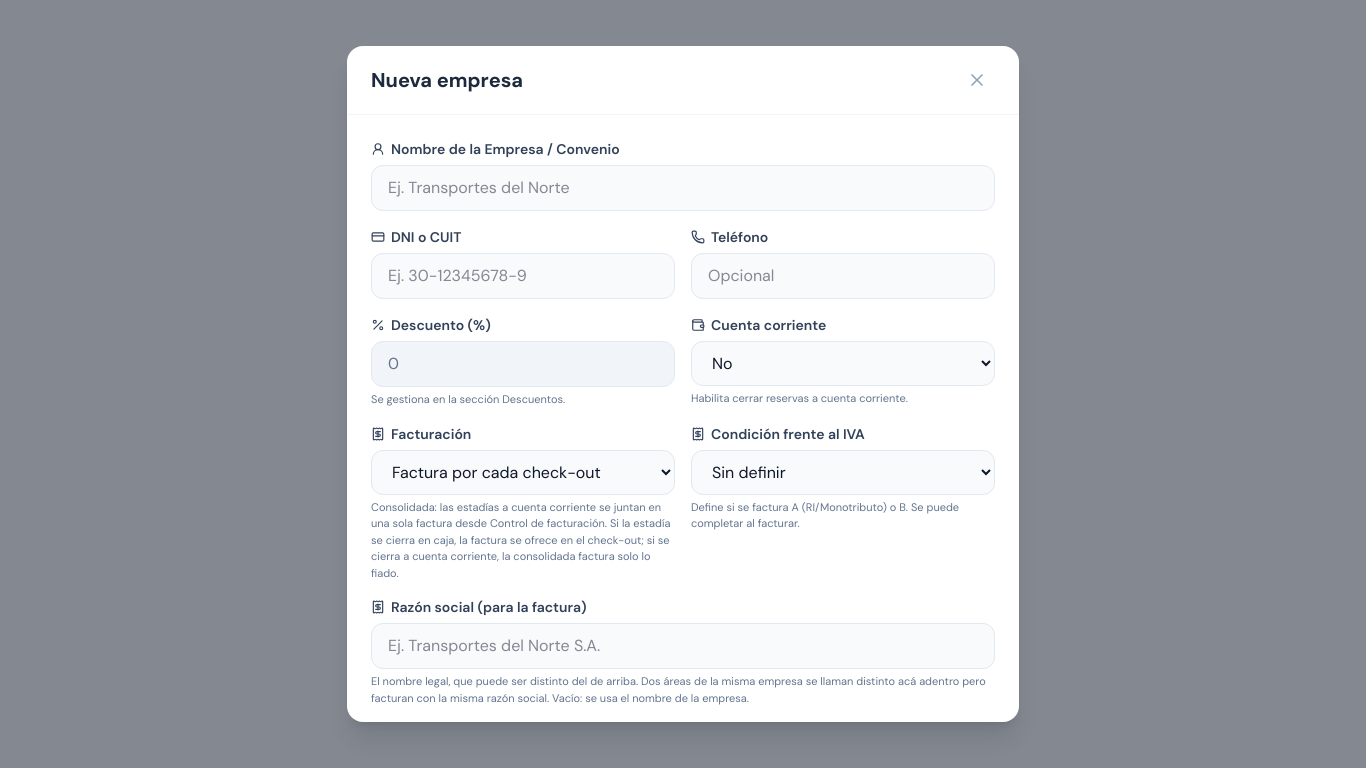
Test: AssociatedClientModal: cuenta corriente y modo de facturación › volver a 'por cada check-out' muestra el aviso ámbar y saca la nota
This screenshot has width=1366, height=768.
Type "30-12345678-1" into the field labelled "DNI o CUIT" at (523, 276), box top-left (371, 253), bottom-right (675, 299)
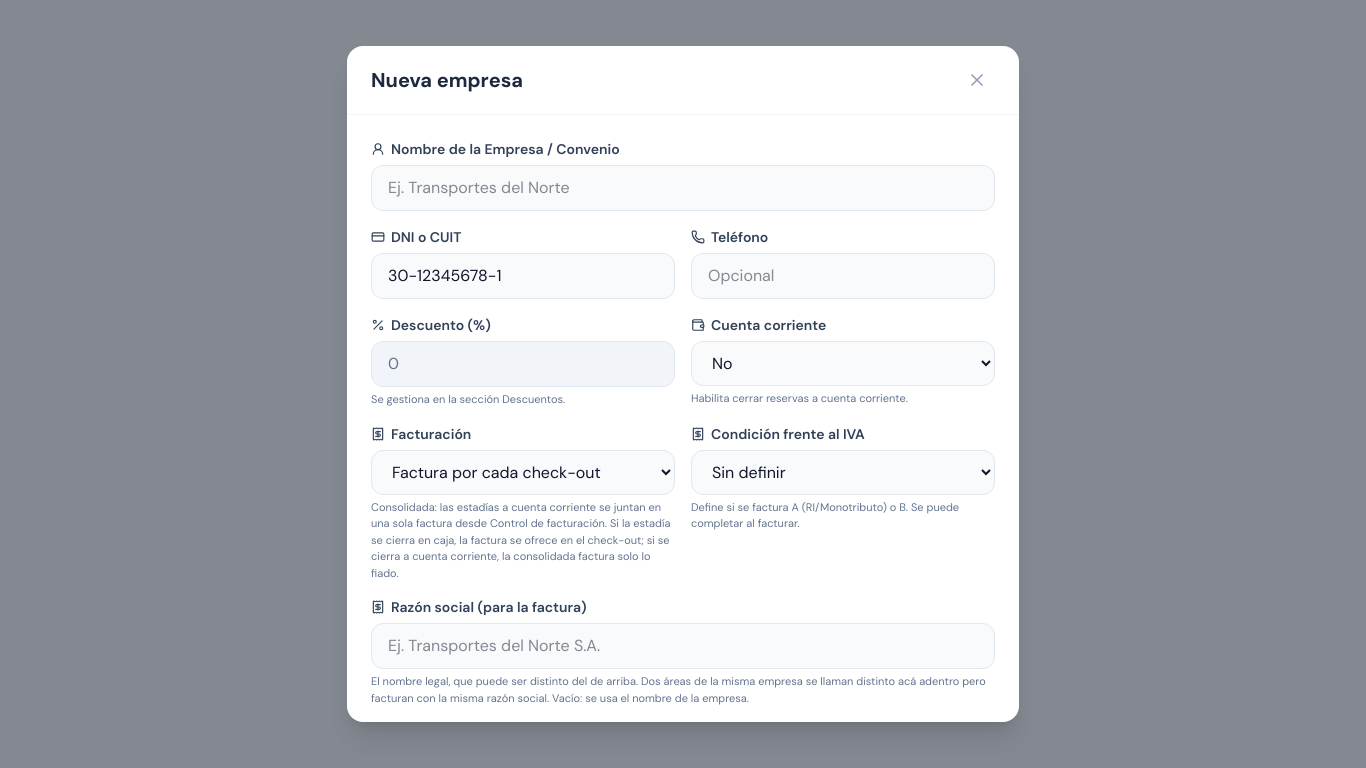
Select "Sí — habilitada a fiar" in the dropdown labelled "Cuenta corriente" at (843, 364), box top-left (691, 341), bottom-right (995, 386)
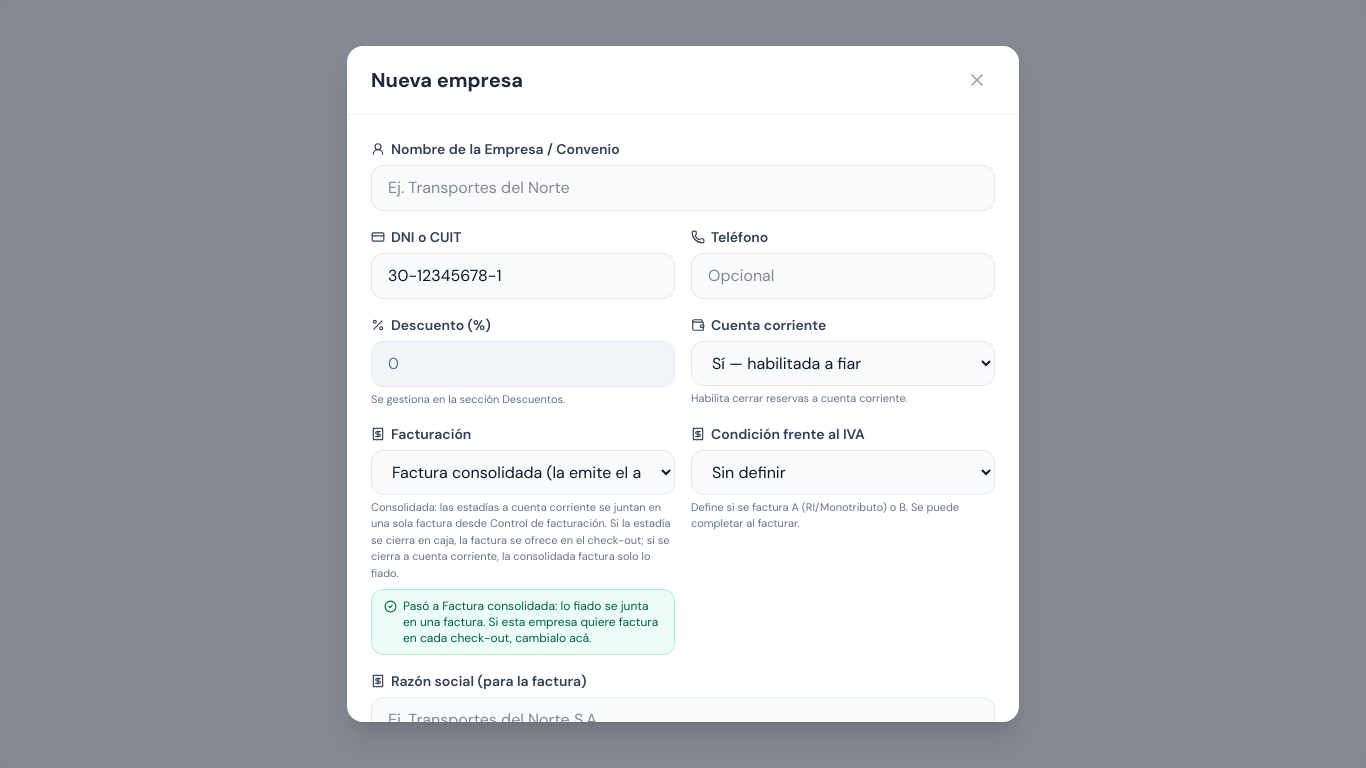
Check: the text "Pasó a Factura consolidada" is shown, box top-left (403, 598), bottom-right (658, 646)
Select "Factura por cada check-out" in the dropdown labelled "Facturación" at (523, 472), box top-left (371, 450), bottom-right (675, 495)
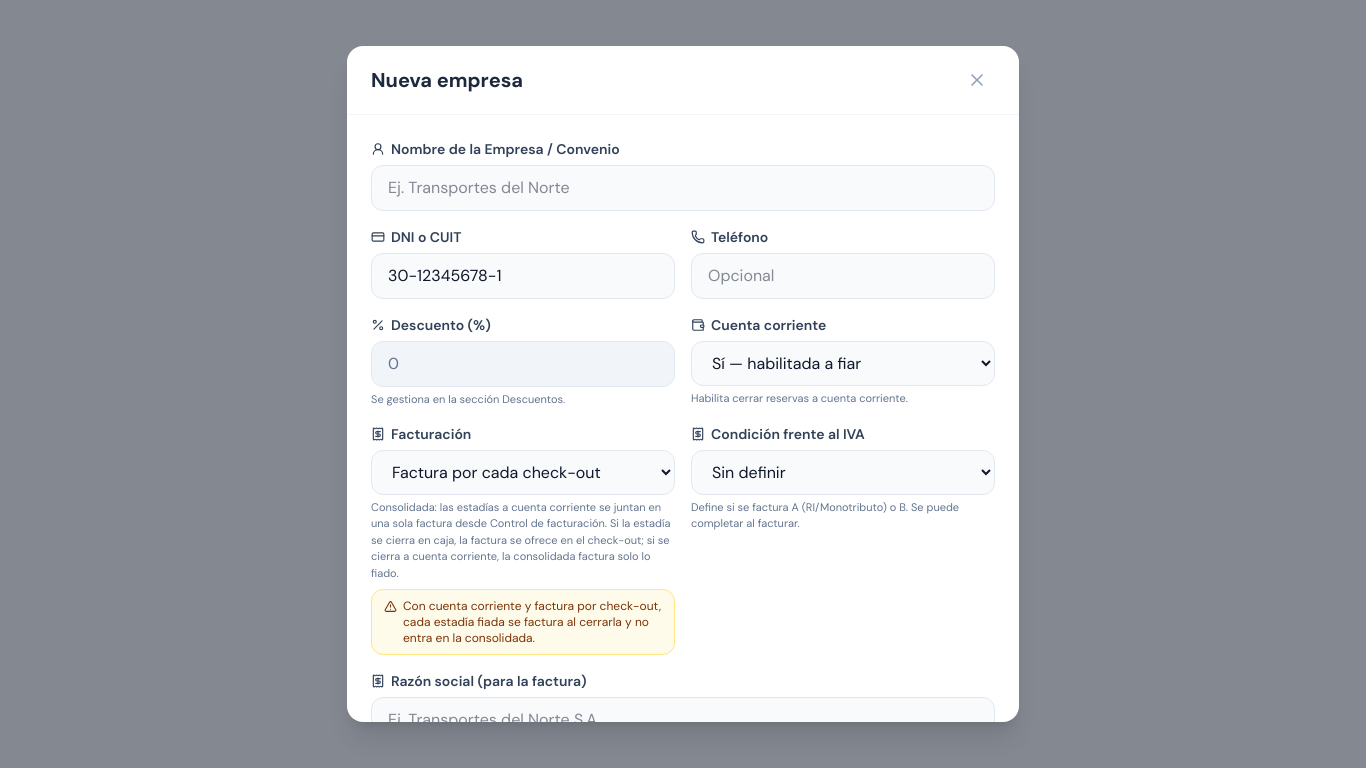
Check: the text "no entra en la consolidada" is shown, box top-left (403, 598), bottom-right (661, 646)
Check: the text "Pasó a Factura consolidada" is gone
